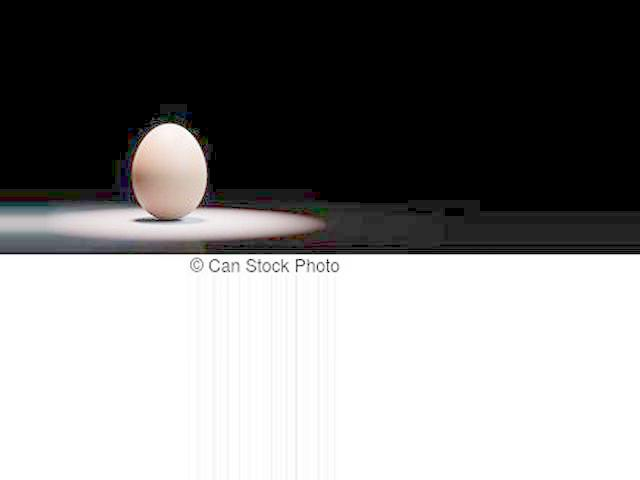egg: (130, 124, 206, 221)
